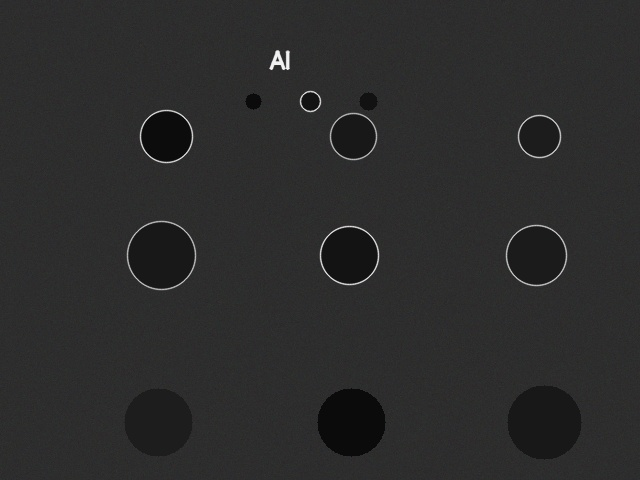hole: (507, 385, 581, 459), (127, 221, 195, 289), (124, 388, 192, 456), (317, 388, 385, 456), (506, 225, 566, 285), (320, 226, 378, 284), (140, 110, 192, 162), (330, 113, 376, 159), (518, 115, 560, 157), (300, 91, 320, 111), (359, 92, 377, 110), (245, 93, 261, 109)
